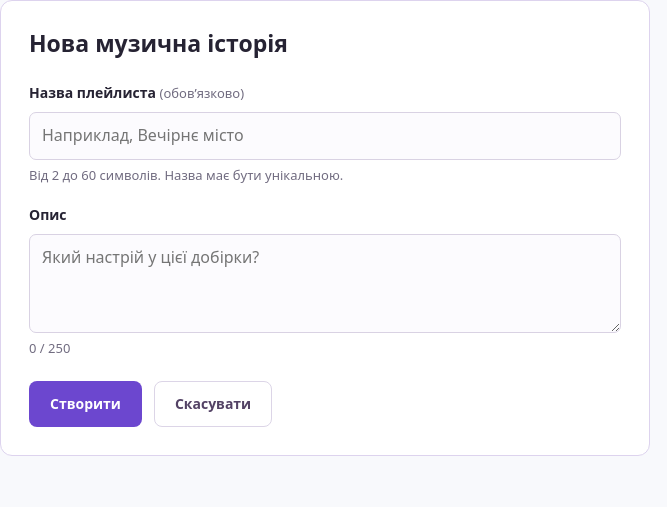
Test: не дозволяє однакові назви незалежно від регістру
Type "  ВЕЧІРНЄ МІСТО  " into the field labelled "Назва плейлиста (обов’язково)".
click(325, 136); type("  ВЕЧІРНЄ МІСТО  ")  # box [29,112,621,160]
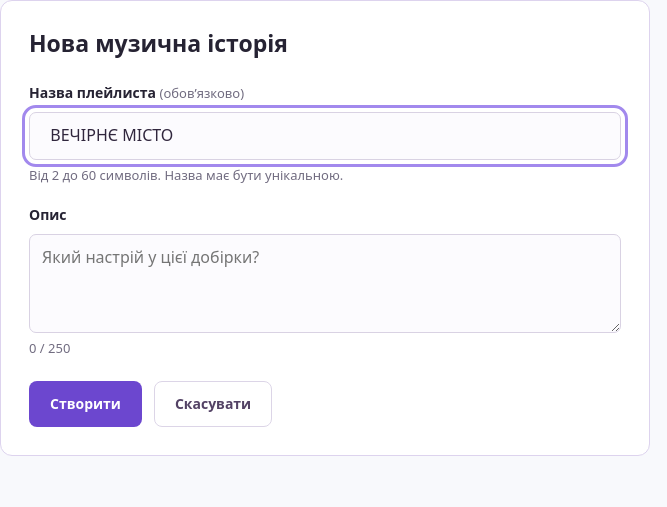
Click the button "Створити".
click(85, 404)  # box [29,380,142,427]
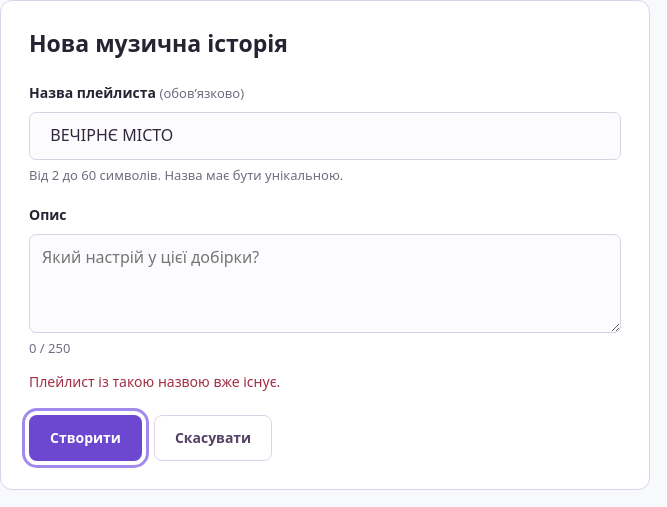
Now the message reads "Плейлист із такою назвою вже існує.", box [29,372,280,390]
